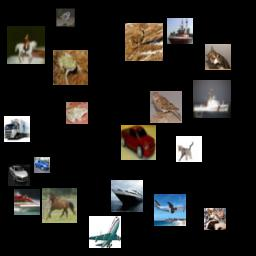airplane: (89, 216, 121, 248), (154, 194, 186, 226)
automobile: (121, 125, 156, 160), (8, 164, 30, 186), (34, 157, 50, 173)
bird: (150, 91, 182, 123), (56, 8, 75, 27)
cat: (205, 44, 231, 70), (176, 136, 202, 162), (204, 208, 226, 230)
deer: (125, 23, 163, 61)
frog: (53, 50, 88, 85), (66, 102, 88, 124)
ship: (193, 80, 231, 118), (111, 180, 143, 212), (167, 18, 193, 44), (14, 189, 40, 215)
truck: (4, 116, 30, 142)
